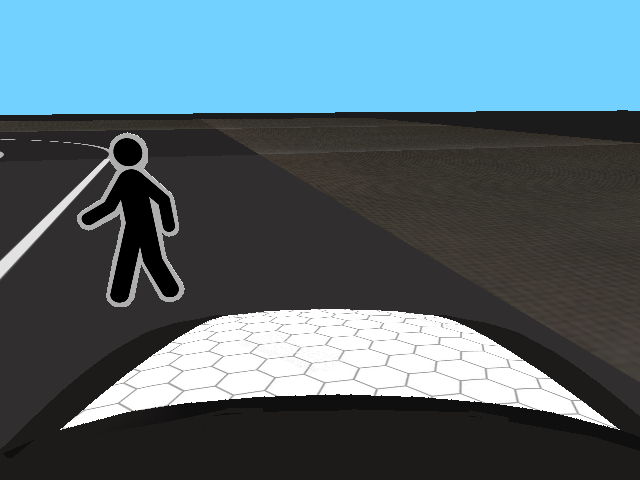pedestrian: (77, 131, 188, 306)
